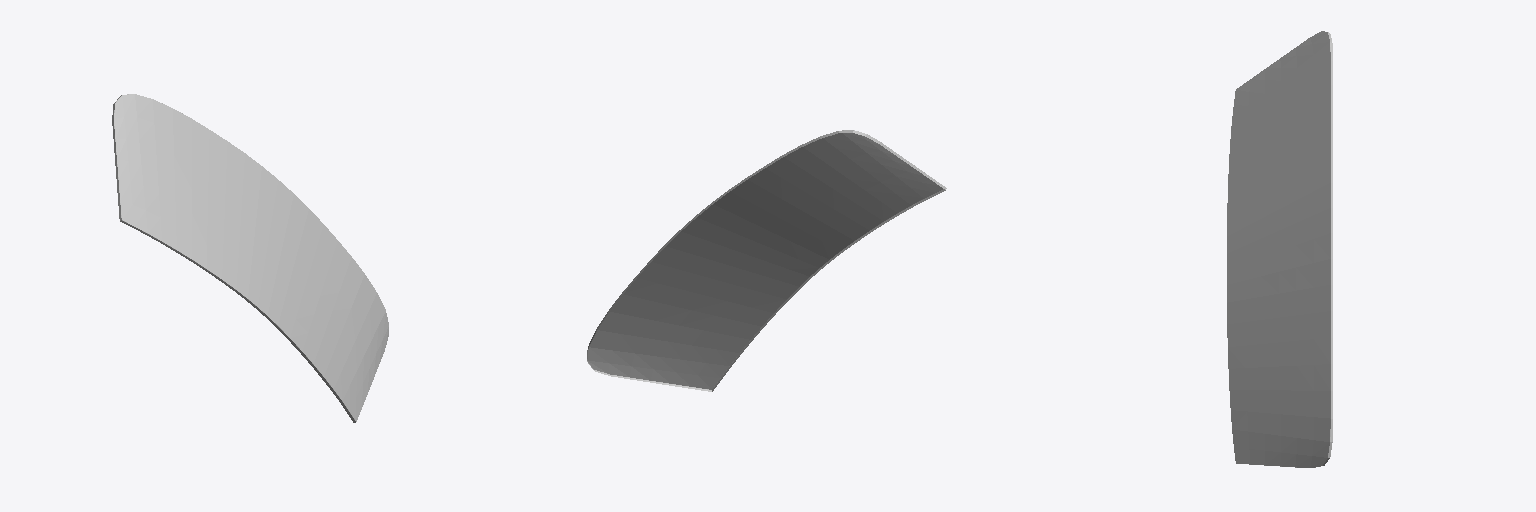
Rendered from Front_Window.obj.
3 renders of one model, left to right at view 1: azimuth 30°, elevation 25°; view 2: azimuth 150°, elevation 25°; view 3: azimuth 270°, elevation 25°, orthographic.
Visible parts, largest first — view 1: Front_Window; view 2: Front_Window; view 3: Front_Window.
Part boxes in pixels (x1,y1,x2,y2): Front_Window: (112, 94, 388, 422); Front_Window: (587, 130, 946, 391); Front_Window: (1227, 31, 1332, 467).
Bounding box in the file's own units: 1.11 × 1.15 × 0.3263.